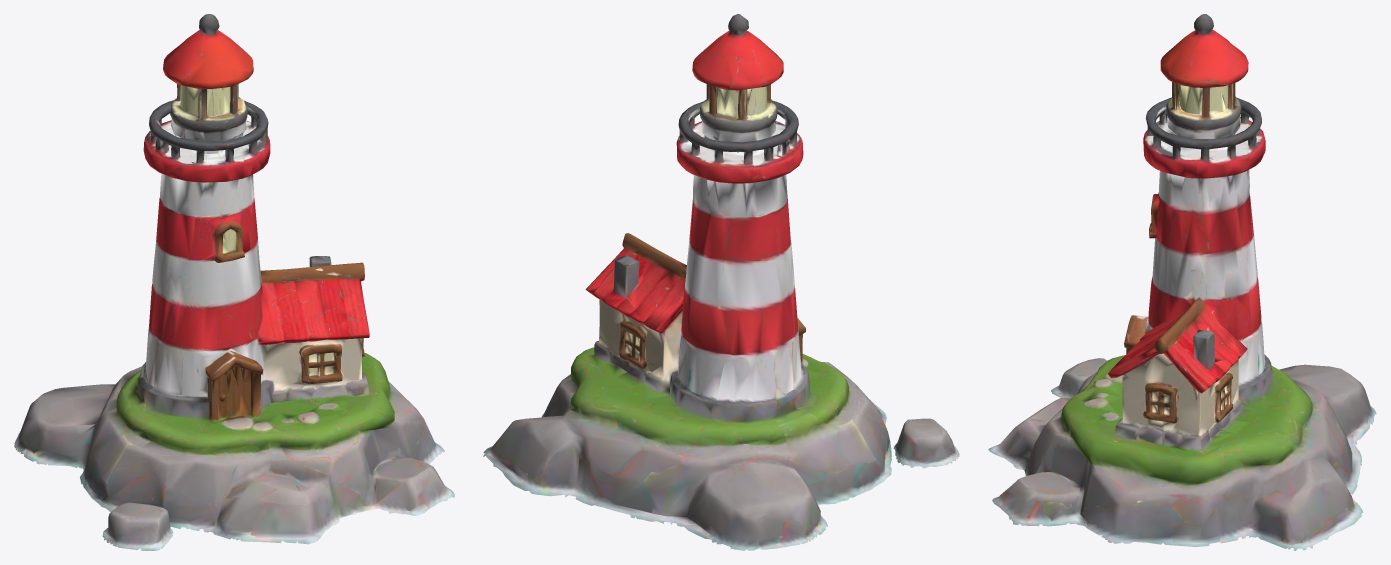
File: m_lighthouse.glb
3 views of the same model, side by side, from view 1: azimuth 30°, elevation 25°; view 2: azimuth 150°, elevation 25°; view 3: azimuth 270°, elevation 25° (orthographic). The views are drawn at different scales.
Size of the model in its own units: 0.718 by 0.8478 by 0.6793.
Materials: 1 (1 with a texture image).
